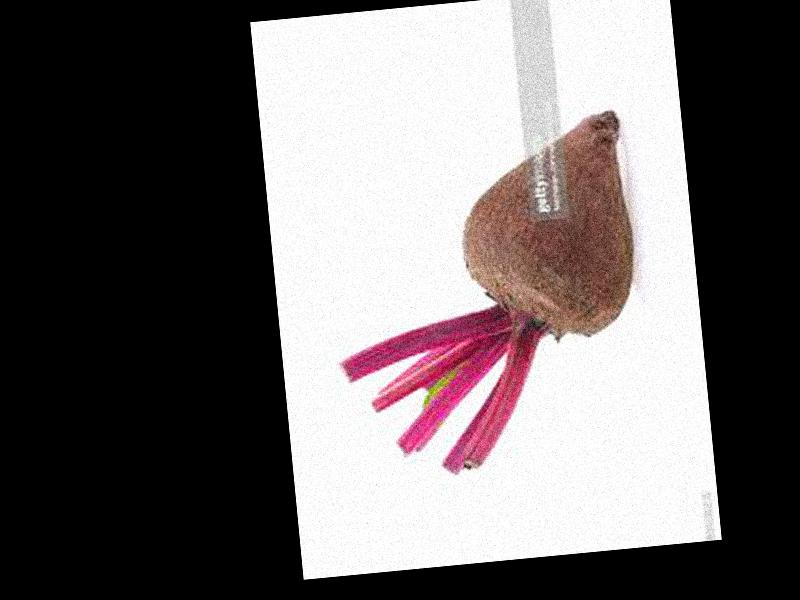Beet: (319, 109, 651, 484)
